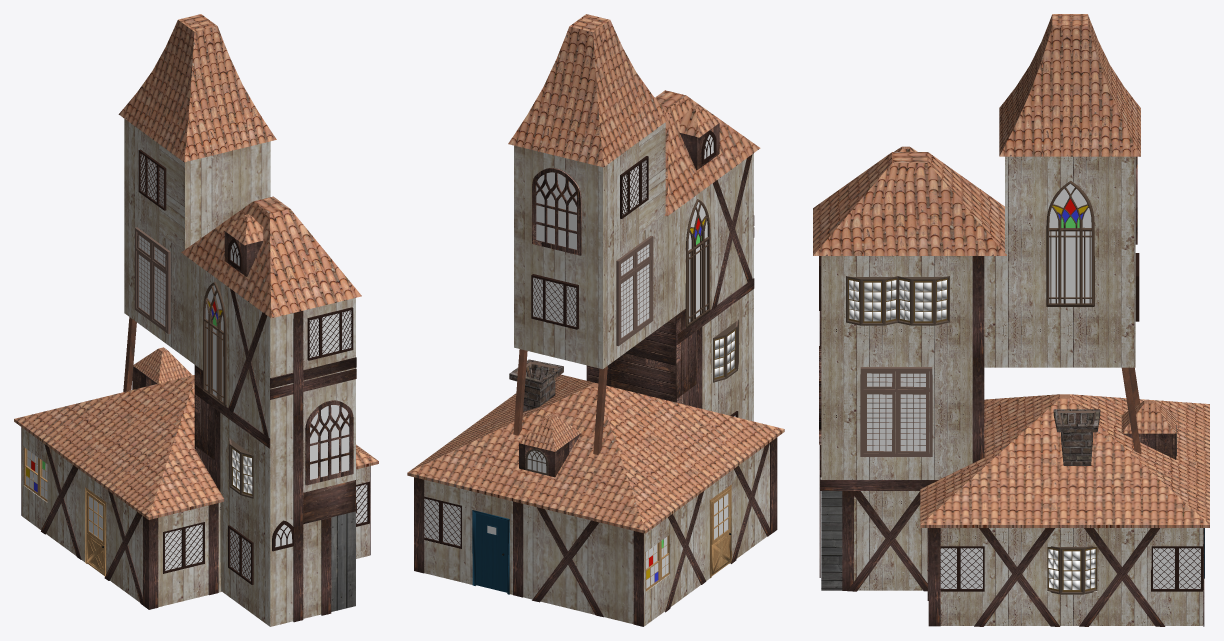
The model's file is outside_details.fbx.
3 views of the same model, side by side, from view 1: azimuth 30°, elevation 25°; view 2: azimuth 150°, elevation 25°; view 3: azimuth 270°, elevation 25° (orthographic). The views are drawn at different scales.
Parts seen in each view (by area): view 1: wall_blocks, roof_1, roof_3.001, roof_2, wall3, Window, wall1, Cube.006, glasswindow2.015, Cube.007, wall23, door_1 (+33 smaller); view 2: wall_blocks, roof_1, roof_3.001, wall6, roof_2, wall3, Window, wall1, Cube.008, door2, glasswindow2.014, Cube.009 (+35 smaller); view 3: wall_blocks, roof_1, roof_2, roof_3.001, Window.003, wall16, wall13, window3.001, window3.002, window3, pipe, Windows.L.001 (+31 smaller).
Boxes of the visible parts, left/top/right/bottom form: wall_blocks: left=124, top=119, right=355, bottom=626; roof_1: left=14, top=375, right=378, bottom=519; roof_3.001: left=118, top=14, right=276, bottom=162; roof_2: left=181, top=196, right=361, bottom=318; wall3: left=47, top=448, right=87, bottom=563; Window: left=203, top=282, right=226, bottom=406; wall1: left=105, top=488, right=142, bottom=602; Cube.006: left=305, top=400, right=353, bottom=485; glasswindow2.015: left=307, top=307, right=353, bottom=360; Cube.007: left=310, top=405, right=349, bottom=479; wall23: left=163, top=564, right=204, bottom=605; door_1: left=87, top=491, right=104, bottom=574; wall_blocks: left=514, top=122, right=753, bottom=421; roof_1: left=407, top=374, right=784, bottom=533; roof_3.001: left=508, top=14, right=671, bottom=167; wall6: left=507, top=500, right=645, bottom=626; roof_2: left=655, top=90, right=760, bottom=216; wall3: left=669, top=485, right=711, bottom=606; Window: left=685, top=199, right=710, bottom=327; wall1: left=730, top=444, right=769, bottom=558; Cube.008: left=532, top=168, right=581, bottom=255; door2: left=476, top=513, right=507, bottom=589; glasswindow2.014: left=531, top=274, right=578, bottom=329; Cube.009: left=536, top=172, right=576, bottom=249; wall_blocks: left=821, top=156, right=1135, bottom=590; roof_1: left=920, top=394, right=1209, bottom=527; roof_2: left=813, top=152, right=1006, bottom=255; roof_3.001: left=999, top=14, right=1140, bottom=156; Window.003: left=1046, top=181, right=1094, bottom=306; wall16: left=984, top=528, right=1047, bottom=625; wall13: left=1097, top=528, right=1151, bottom=625; window3.001: left=846, top=276, right=899, bottom=325; window3.002: left=896, top=276, right=949, bottom=325; window3: left=1047, top=546, right=1097, bottom=594; pipe: left=1053, top=409, right=1100, bottom=465; Windows.L.001: left=863, top=392, right=894, bottom=453.
Size of the model in its own units: 751 by 1594 by 1041.
